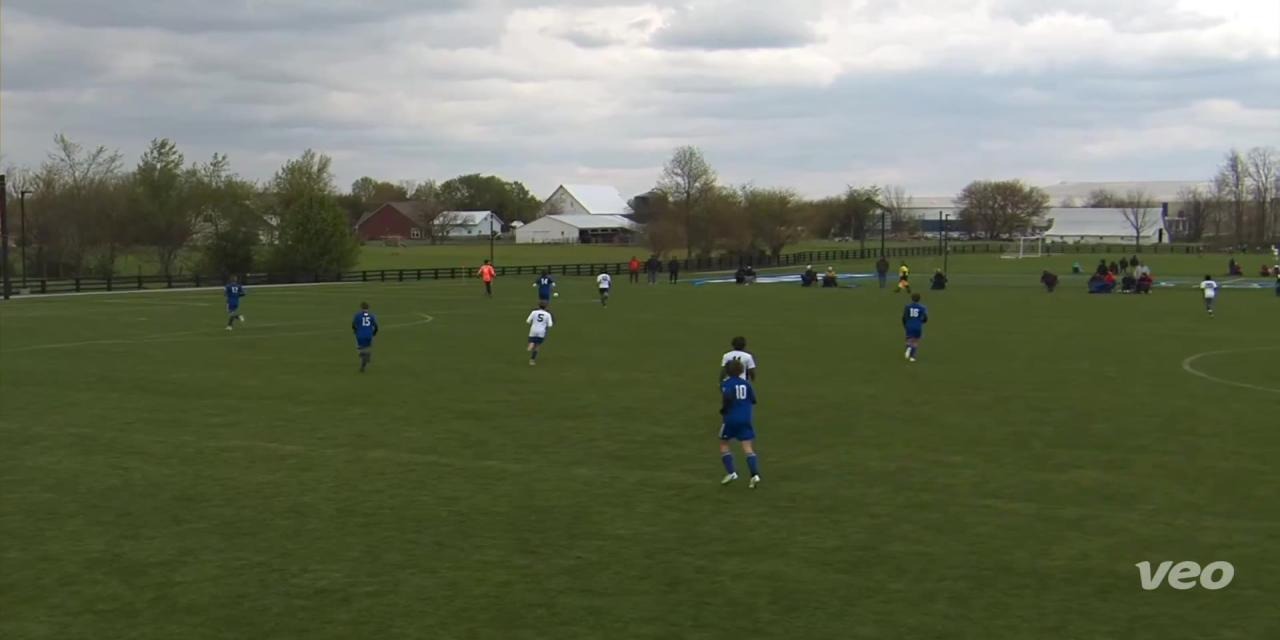sports ball: (550, 289, 564, 302)
